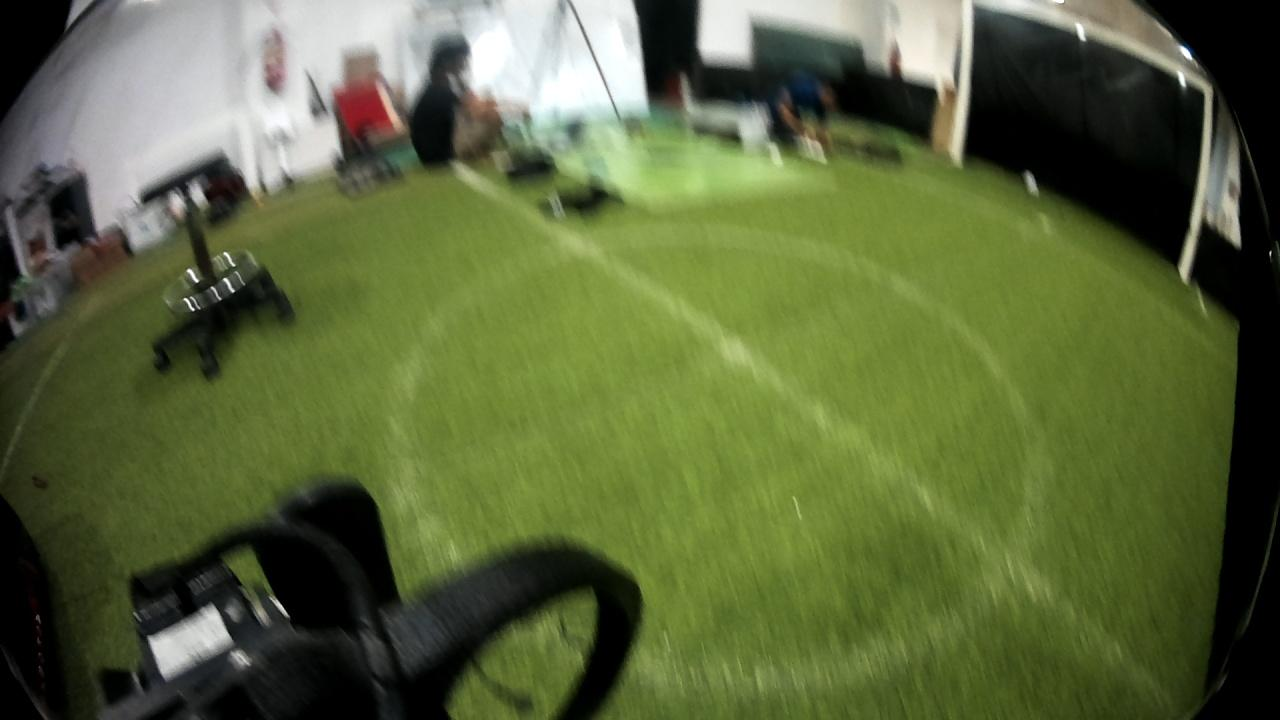ball: (1023, 165, 1041, 203)
